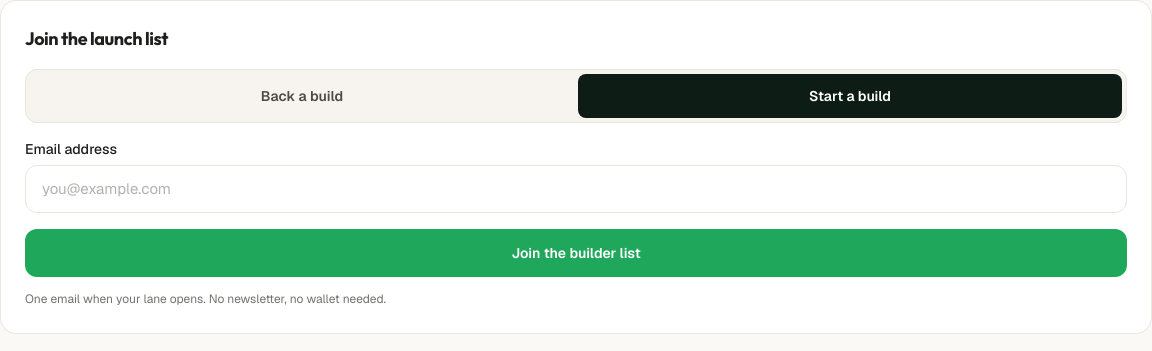
Test case: WaitlistForm › switches lanes and confirms the chosen list
Check: the radio button labelled "Start a build" is checked, box left=578, top=74, right=1122, bottom=118
# #when a valid address is submitted
Type "builder@example.com" into the field labelled "Email address".
click(576, 189); type("builder@example.com")  # box left=25, top=165, right=1127, bottom=213
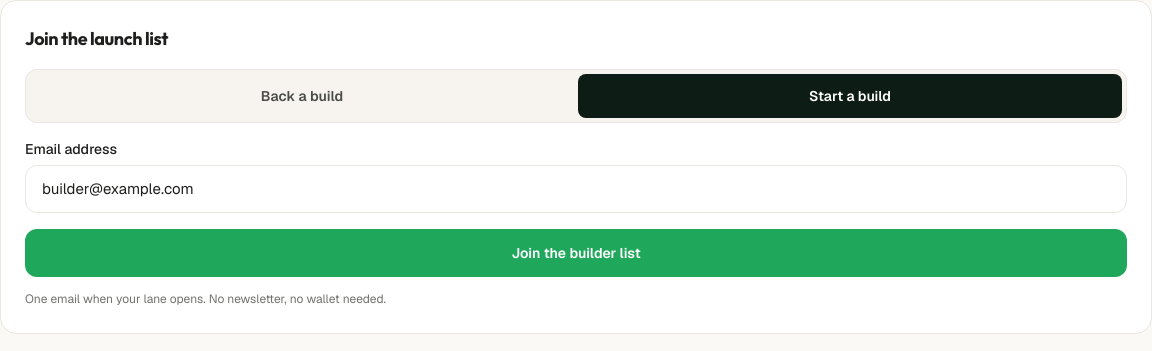
Click the button "Join the builder list".
click(576, 253)  # box left=25, top=229, right=1127, bottom=277
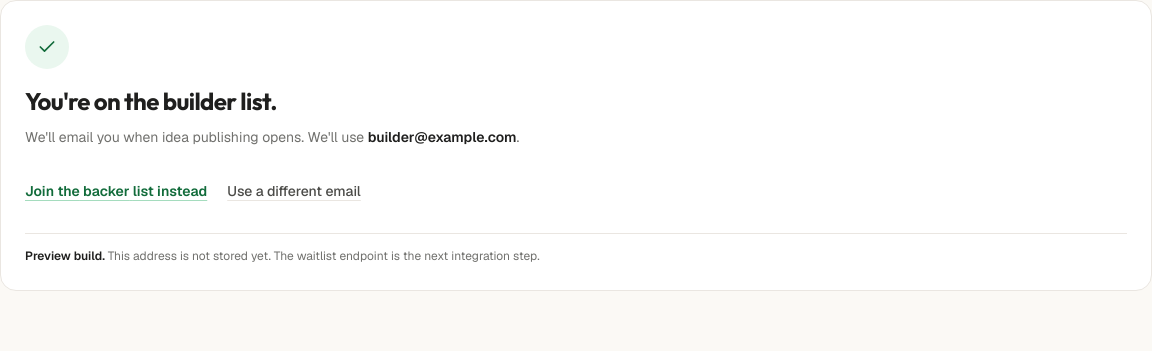
Check: the heading "You're on the builder list." is shown, box left=25, top=86, right=277, bottom=116
Check: the text "builder@example.com" is shown, box left=368, top=128, right=516, bottom=146
Check: the text "not stored yet" is shown, box left=105, top=248, right=540, bottom=264
